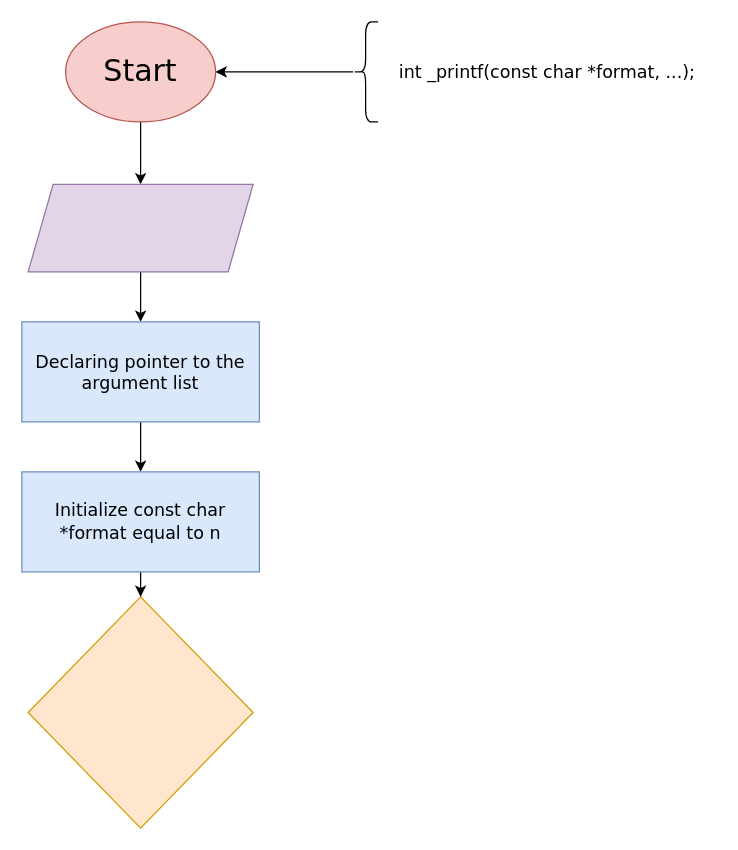
The diagram is 738 pixels wide and 850 high, and some of its shapes have lost their labels. The box of each missing label's shape, as (x1, y1, x2, y2) in pixels:
Accessing current variable and pointing to next one: (27, 596, 253, 828)
Input: const char *format, ...: (27, 183, 253, 272)
